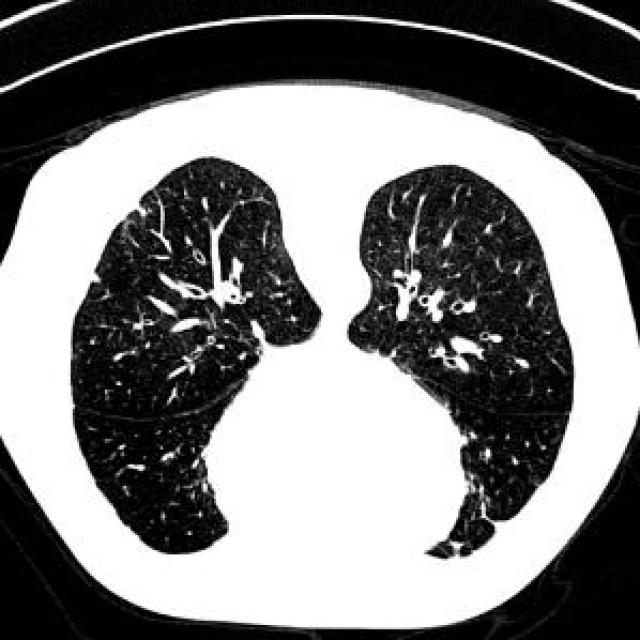Tumor: (92, 273, 101, 284)
